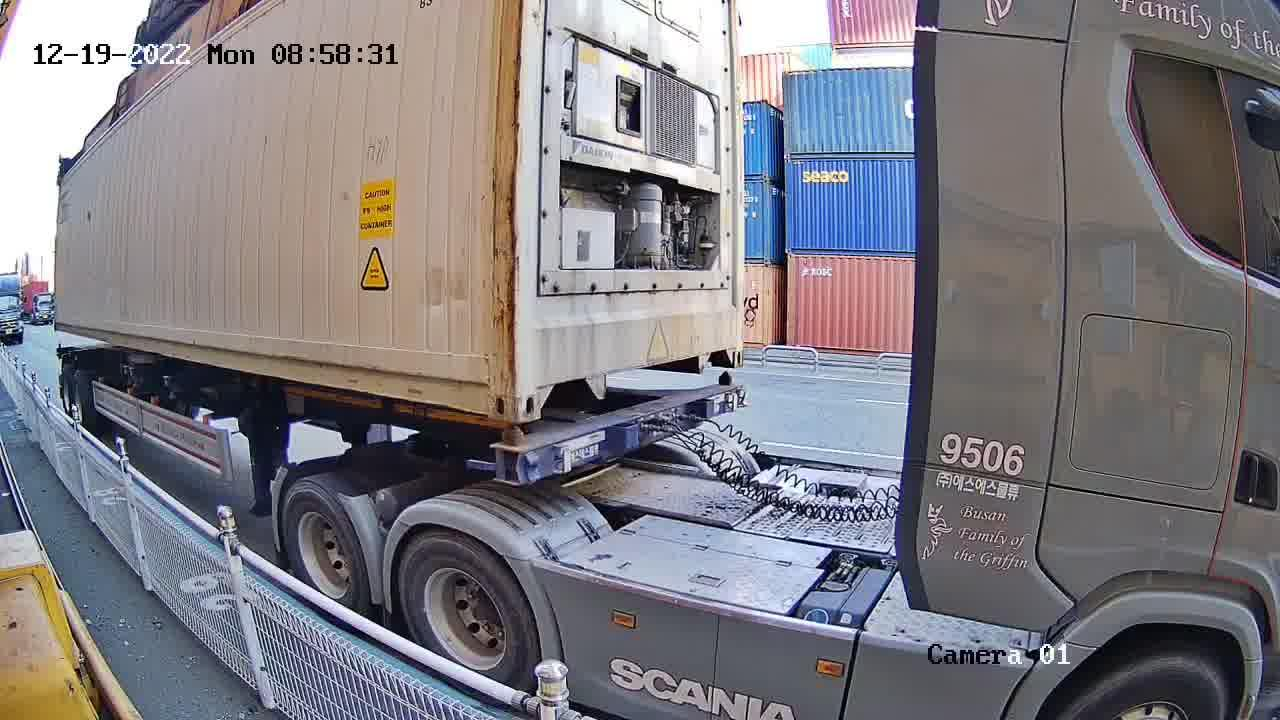Chassis: (496, 385, 743, 482)
Cone: (498, 428, 524, 484), (716, 370, 741, 408)
Hole_L: (516, 369, 559, 420)
Hole_R: (457, 364, 513, 419), (719, 338, 744, 368)
Tire: (400, 534, 529, 679), (283, 486, 365, 605)
